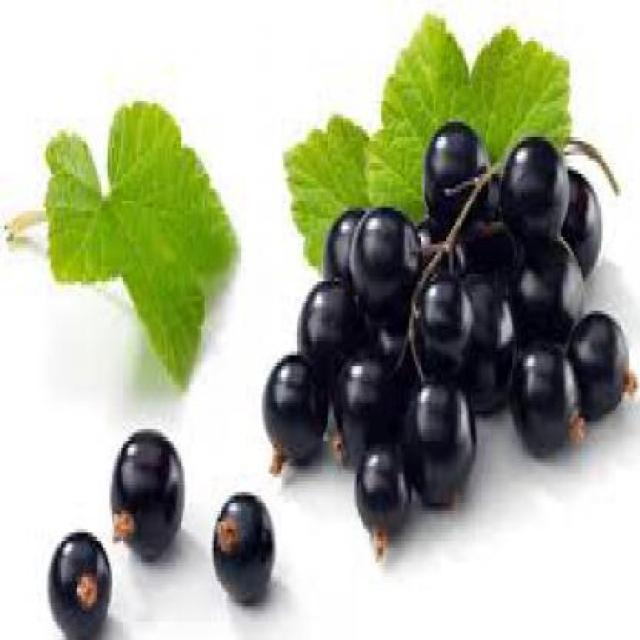BIODEGRADABLE: (44, 100, 236, 385), (372, 7, 566, 248), (284, 115, 370, 278), (106, 429, 186, 566), (346, 204, 422, 333), (410, 377, 476, 518), (514, 230, 586, 356), (210, 491, 276, 607), (514, 336, 580, 452), (464, 262, 514, 415), (264, 354, 325, 478), (413, 267, 473, 388), (569, 307, 634, 418), (354, 432, 409, 558), (497, 132, 563, 237), (457, 192, 526, 292), (338, 344, 400, 454), (48, 529, 108, 636), (426, 122, 486, 218), (299, 277, 361, 366), (565, 166, 601, 285), (322, 207, 363, 296), (412, 208, 439, 266)
